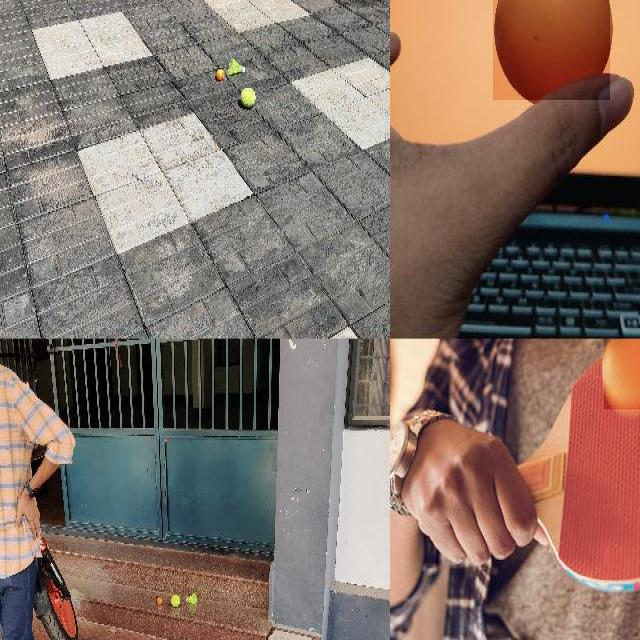ping-pong-ball: (493, 0, 612, 103), (603, 339, 639, 412), (216, 68, 224, 81), (156, 595, 162, 605)
